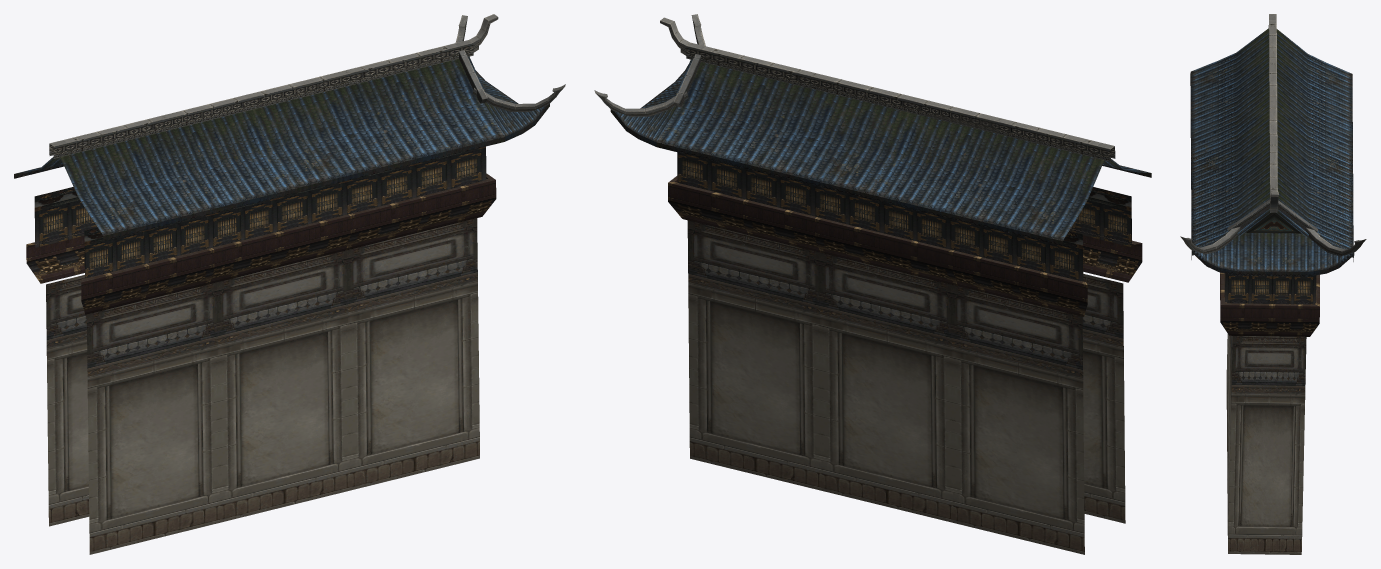
Rendered from jd_fan_2.FBX.
The picture shows the model from 3 angles, left to right: view 1: azimuth 30°, elevation 25°; view 2: azimuth 150°, elevation 25°; view 3: azimuth 270°, elevation 25°; orthographic projection. The views are drawn at different scales.
Parts seen in each view (by area): view 1: jd_fan_2; view 2: jd_fan_2; view 3: jd_fan_2.
Part boxes in pixels (box(x1,y1,x2,y2)): jd_fan_2: box(14, 14, 565, 554); jd_fan_2: box(594, 14, 1151, 554); jd_fan_2: box(1180, 14, 1366, 554).
Size of the model in its own units: 123 by 105 by 46.91.
